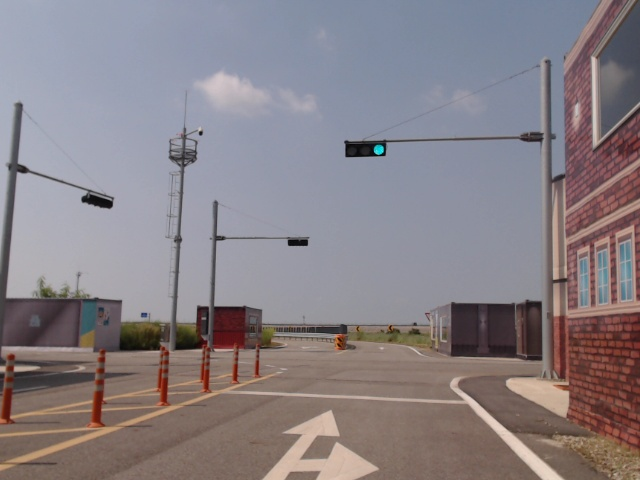green_3: (345, 143, 387, 157)
